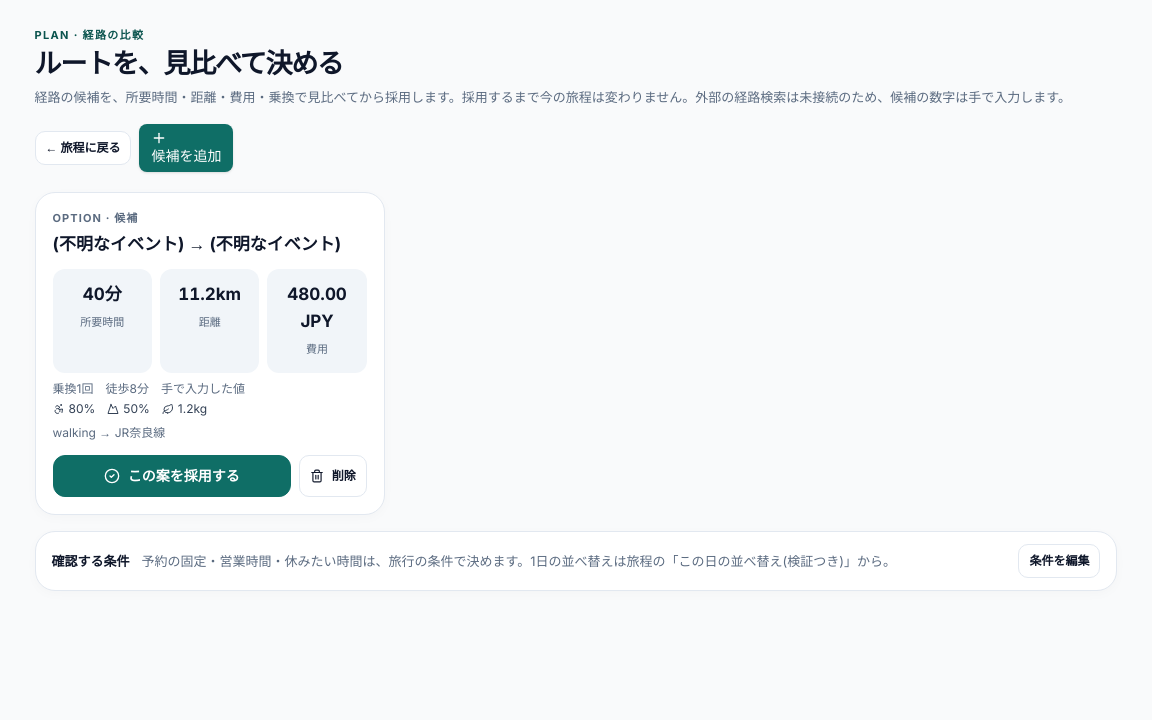
Test case: RouteOptionsPage (Gate B-013/B-014) › 削除はプランの版番号をIf-Matchに使い、採用した区間が残ることを知らせる
The width and height of the screenshot is (1152, 720).
Click the button with aria-label "この経路候補を削除" at (333, 476), box [299,454,367,497]
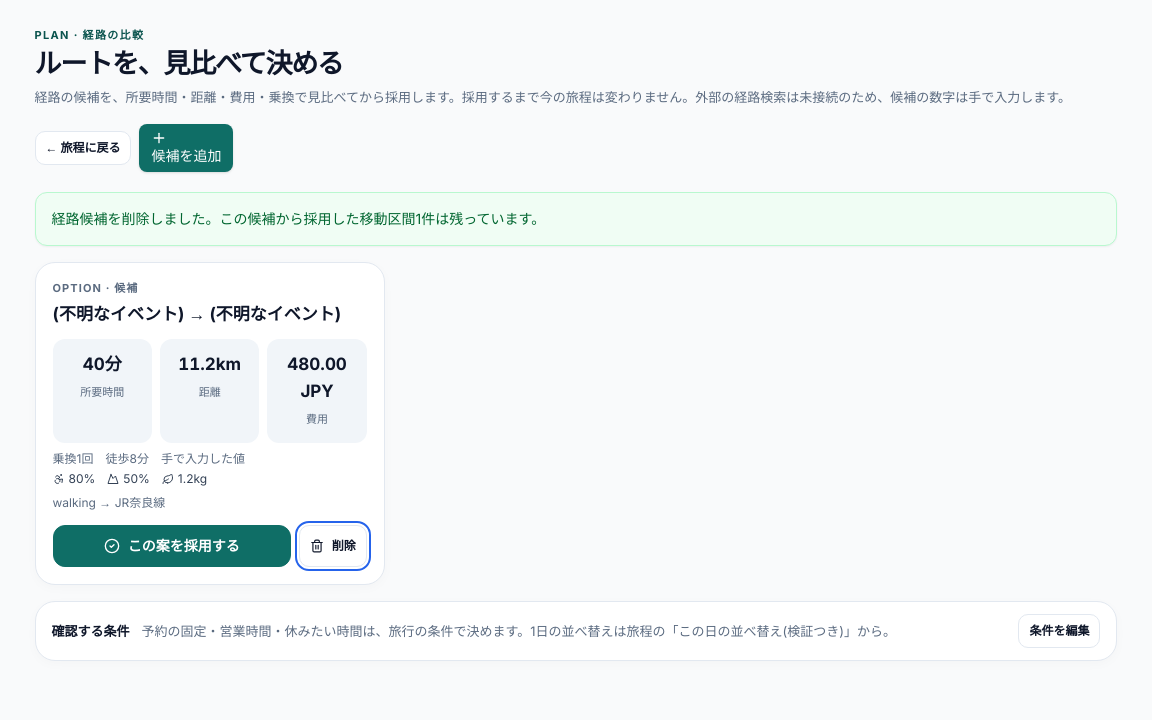
Expected: the message shows "採用した移動区間1件は残っています", [52,210,545,227]
